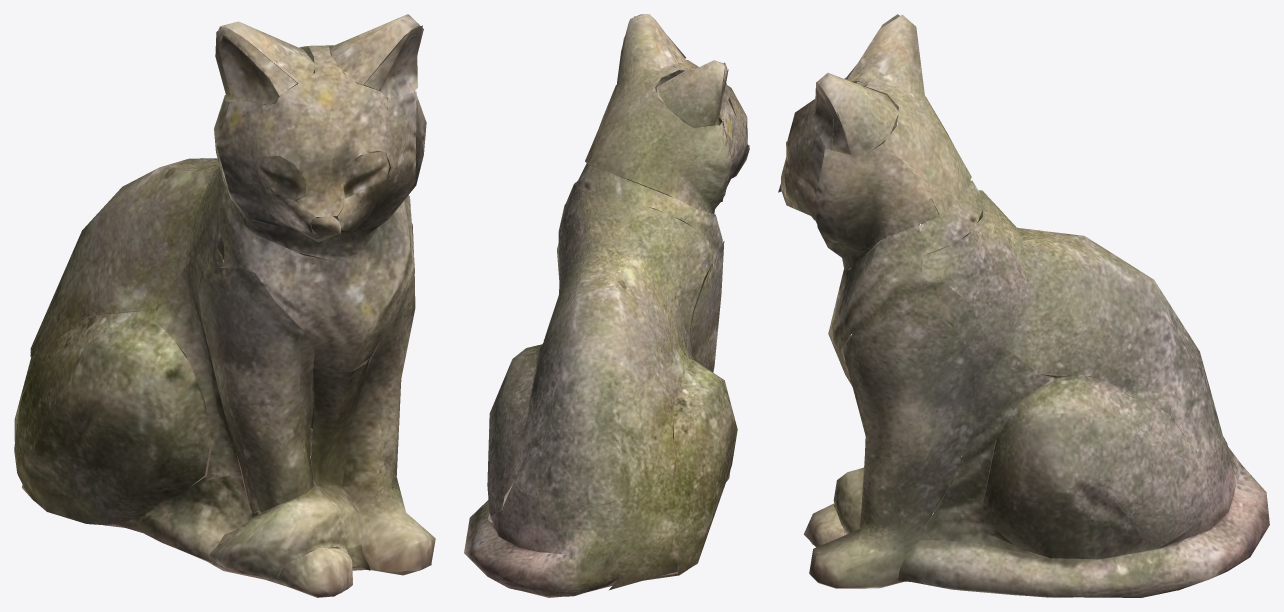
Rendered from concrete_cat_statue_1k.gltf.lod.glb.
The picture shows the model from 3 angles, left to right: view 1: azimuth 30°, elevation 25°; view 2: azimuth 150°, elevation 25°; view 3: azimuth 270°, elevation 25°; orthographic projection. The views are drawn at different scales.
Visible parts, largest first — view 1: concrete_cat_statue; view 2: concrete_cat_statue; view 3: concrete_cat_statue.
Part boxes in pixels (x1,y1,x2,y2): concrete_cat_statue: (14, 14, 435, 597); concrete_cat_statue: (464, 14, 749, 597); concrete_cat_statue: (778, 14, 1269, 597).
Size of the model in its own units: 0.1544 by 0.2844 by 0.2509.
Materials: 1 (1 with a texture image).
